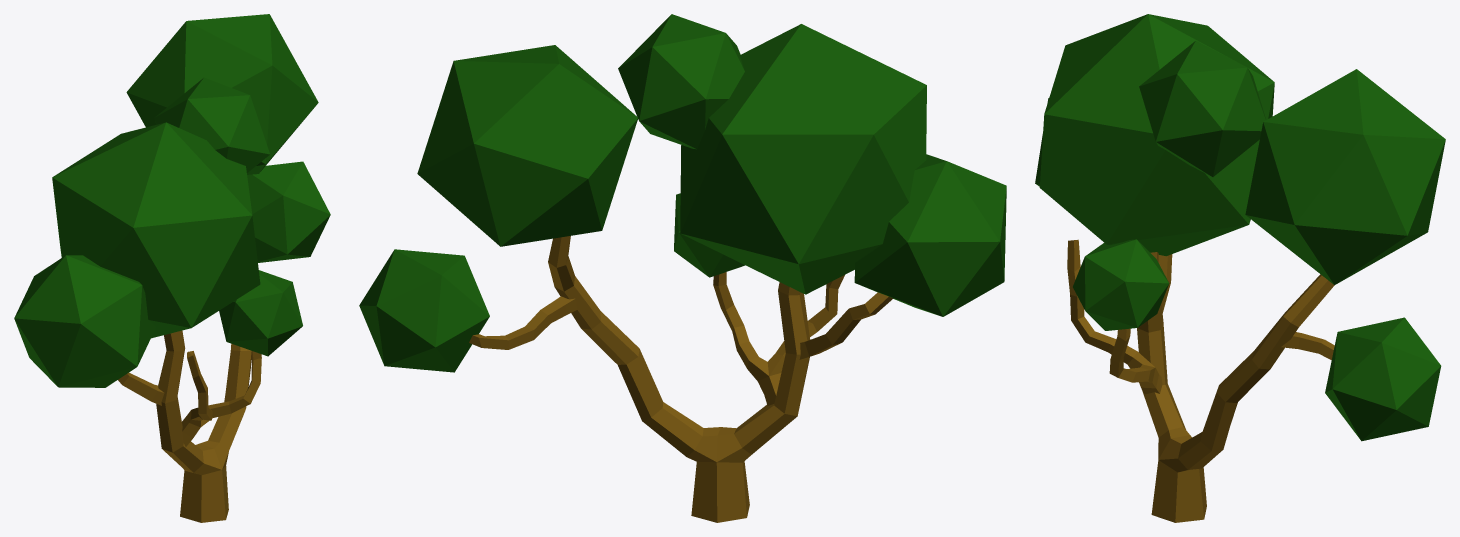
Rendered from tree 2.fbx.
3 views of the same model, side by side, from view 1: azimuth 30°, elevation 25°; view 2: azimuth 150°, elevation 25°; view 3: azimuth 270°, elevation 25° (orthographic). The views are drawn at different scales.
Parts seen in each view (by area): view 1: Default; view 2: Default; view 3: Default.
Part boxes in pixels (bbox=[...]): Default: bbox=[14, 14, 330, 522]; Default: bbox=[359, 14, 1006, 522]; Default: bbox=[1035, 14, 1445, 522].
Bounding box in the file's own units: 27.98 × 26.54 × 20.8.
1 material, 1 textured.
